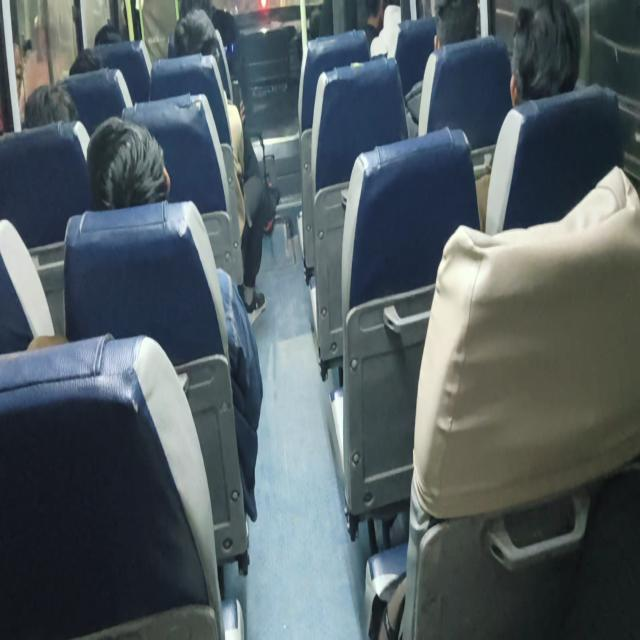person: (85, 115, 264, 522), (170, 8, 279, 322), (473, 0, 582, 229), (404, 0, 479, 135), (86, 115, 171, 211), (23, 82, 79, 128)
